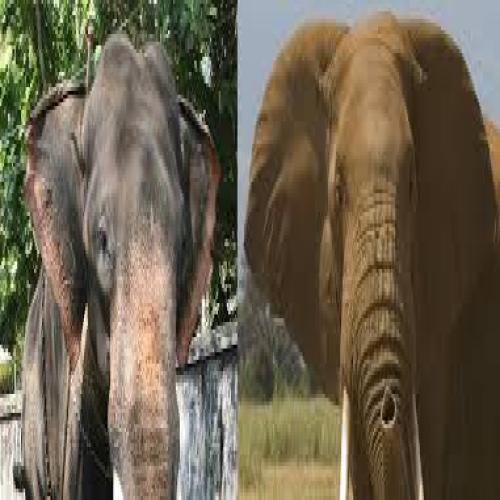asian_elephant-endangered: (243, 15, 500, 500), (19, 31, 223, 500)
